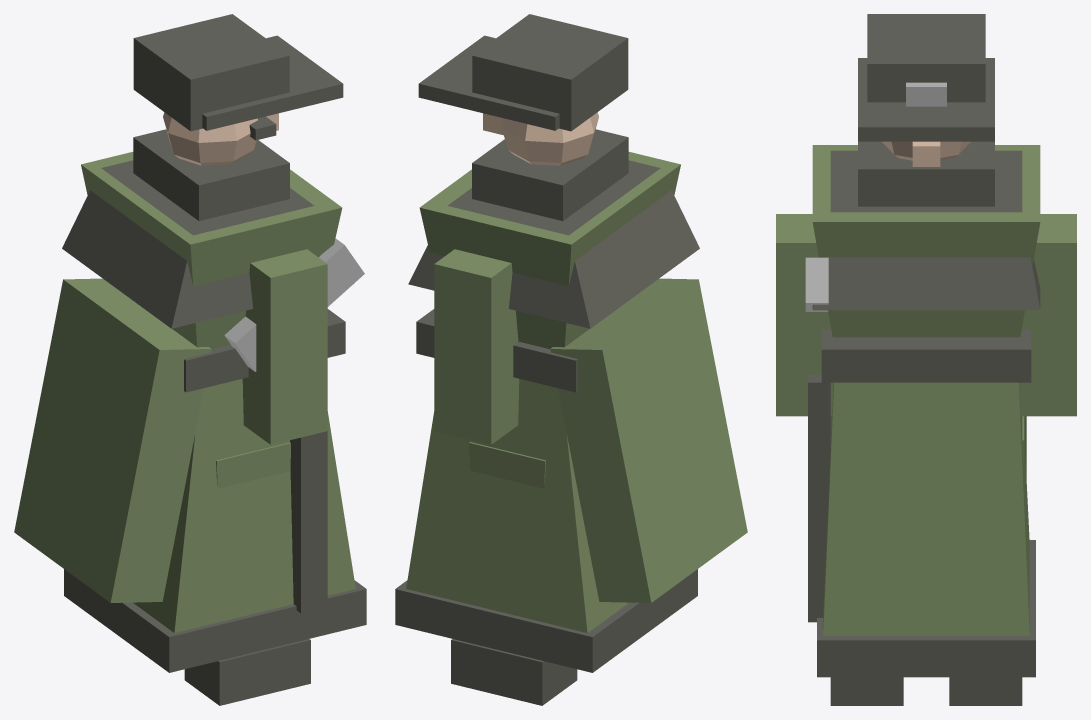
The model's file is unit_hero.glb.
3 views of the same model, side by side, from view 1: azimuth 30°, elevation 25°; view 2: azimuth 150°, elevation 25°; view 3: azimuth 270°, elevation 25° (orthographic). The views are drawn at different scales.
Parts seen in each view (by area): view 1: Hero, accent_Hero, accent_upper_Hero, upper_Hero, skin_upper_Hero, trim_upper_Hero; view 2: Hero, accent_Hero, accent_upper_Hero, upper_Hero, skin_upper_Hero; view 3: Hero, accent_Hero, accent_upper_Hero, upper_Hero, trim_upper_Hero, skin_upper_Hero.
Part boxes in pixels (bbox=[...]): Hero: bbox=[14, 152, 355, 632]; accent_Hero: bbox=[62, 160, 366, 705]; accent_upper_Hero: bbox=[133, 14, 343, 220]; upper_Hero: bbox=[242, 249, 327, 444]; skin_upper_Hero: bbox=[163, 112, 278, 165]; trim_upper_Hero: bbox=[224, 238, 364, 371]; Hero: bbox=[406, 152, 747, 632]; accent_Hero: bbox=[395, 160, 699, 705]; accent_upper_Hero: bbox=[418, 14, 628, 220]; upper_Hero: bbox=[434, 249, 519, 444]; skin_upper_Hero: bbox=[483, 112, 598, 165]; Hero: bbox=[812, 145, 1040, 635]; accent_Hero: bbox=[808, 150, 1040, 705]; accent_upper_Hero: bbox=[858, 14, 994, 206]; upper_Hero: bbox=[776, 214, 1076, 416]; trim_upper_Hero: bbox=[805, 82, 946, 311]; skin_upper_Hero: bbox=[882, 141, 970, 166].
Size of the model in its own units: 0.6629 by 1.55 by 0.66.
